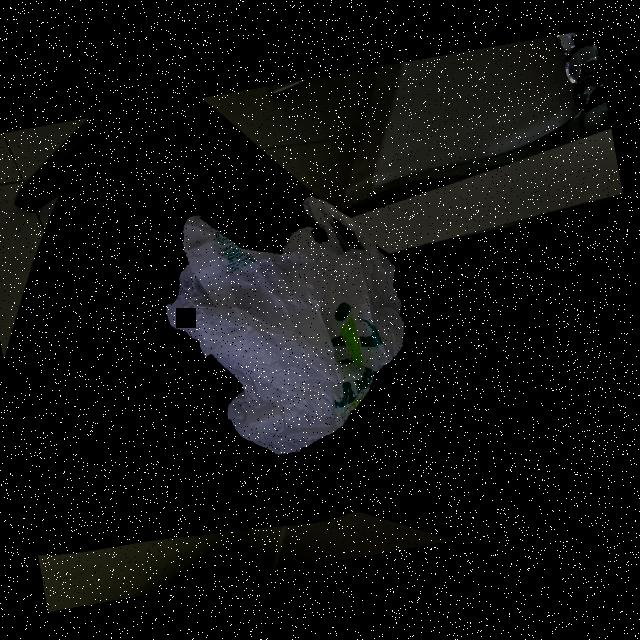plastic_bag: (150, 180, 424, 468)
